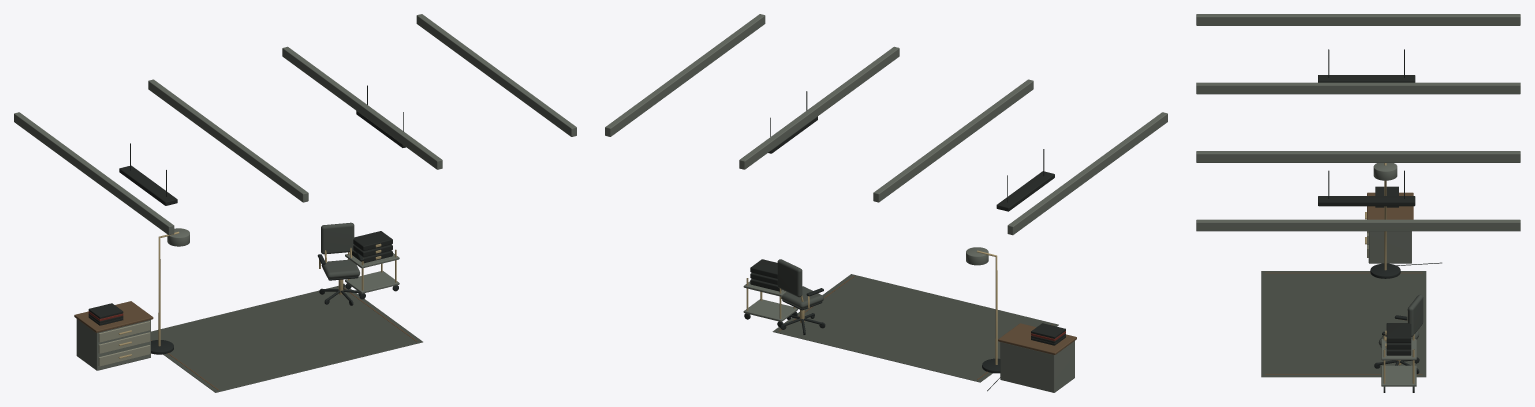
File: shortslab-room.glb
3 views of the same model, side by side, from view 1: azimuth 30°, elevation 25°; view 2: azimuth 150°, elevation 25°; view 3: azimuth 270°, elevation 25° (orthographic). The views are drawn at different scales.
Visible parts, largest first — view 1: ROOM | workstation rug, ROOM | ceiling beam.001, ROOM | ceiling beam.003, ROOM | ceiling beam, ROOM | ceiling beam.002, ROOM | side cabinet, ROOM | chair upholstered back, ROOM | side cabinet top, ROOM | suspended light housing, ROOM | trolley shelf, ROOM | chair seat, ROOM | equipment case.002 (+3 smaller); view 2: ROOM | workstation rug, ROOM | side cabinet, ROOM | ceiling beam.001, ROOM | ceiling beam, ROOM | ceiling beam.002, ROOM | ceiling beam.003, ROOM | side cabinet top, ROOM | suspended light housing, ROOM | chair upholstered back, ROOM | trolley shelf; view 3: ROOM | workstation rug, ROOM | ceiling beam.001, ROOM | ceiling beam.003, ROOM | ceiling beam, ROOM | ceiling beam.002, ROOM | side cabinet, ROOM | suspended light housing.001, ROOM | suspended light housing, ROOM | trolley shelf, ROOM | side cabinet top, ROOM | equipment case.002, ROOM | chair upholstered back (+3 smaller).
Part boxes in pixels (left/top/right/bottom): ROOM | workstation rug: left=151, top=284, right=422, bottom=392; ROOM | ceiling beam.001: left=148, top=79, right=308, bottom=202; ROOM | ceiling beam.003: left=416, top=14, right=576, bottom=136; ROOM | ceiling beam: left=14, top=112, right=174, bottom=235; ROOM | ceiling beam.002: left=282, top=46, right=442, bottom=169; ROOM | side cabinet: left=76, top=319, right=150, bottom=370; ROOM | chair upholstered back: left=321, top=222, right=354, bottom=254; ROOM | side cabinet top: left=74, top=301, right=153, bottom=332; ROOM | suspended light housing: left=119, top=165, right=177, bottom=205; ROOM | trolley shelf: left=345, top=271, right=399, bottom=293; ROOM | chair seat: left=321, top=259, right=359, bottom=278; ROOM | equipment case.002: left=353, top=231, right=392, bottom=250; ROOM | workstation rug: left=772, top=274, right=1058, bottom=382; ROOM | side cabinet: left=1000, top=341, right=1074, bottom=392; ROOM | ceiling beam.001: left=873, top=79, right=1033, bottom=202; ROOM | ceiling beam: left=1007, top=112, right=1167, bottom=235; ROOM | ceiling beam.002: left=739, top=46, right=899, bottom=169; ROOM | ceiling beam.003: left=605, top=14, right=765, bottom=136; ROOM | side cabinet top: left=998, top=323, right=1076, bottom=354; ROOM | suspended light housing: left=996, top=171, right=1054, bottom=211; ROOM | chair upholstered back: left=777, top=259, right=802, bottom=297; ROOM | trolley shelf: left=743, top=299, right=798, bottom=321; ROOM | workstation rug: left=1261, top=271, right=1426, bottom=377; ROOM | ceiling beam.001: left=1196, top=82, right=1520, bottom=94; ROOM | ceiling beam.003: left=1196, top=219, right=1520, bottom=231; ROOM | ceiling beam: left=1196, top=14, right=1520, bottom=25; ROOM | ceiling beam.002: left=1196, top=151, right=1520, bottom=162; ROOM | side cabinet: left=1368, top=231, right=1411, bottom=263; ROOM | suspended light housing.001: left=1318, top=196, right=1415, bottom=206; ROOM | suspended light housing: left=1318, top=75, right=1415, bottom=82; ROOM | trolley shelf: left=1381, top=365, right=1416, bottom=386; ROOM | side cabinet top: left=1367, top=192, right=1413, bottom=219; ROOM | equipment case.002: left=1386, top=323, right=1411, bottom=342; ROOM | chair upholstered back: left=1407, top=294, right=1423, bottom=336.
Bounding box in the file's own units: 9.13 × 4.45 × 6.
